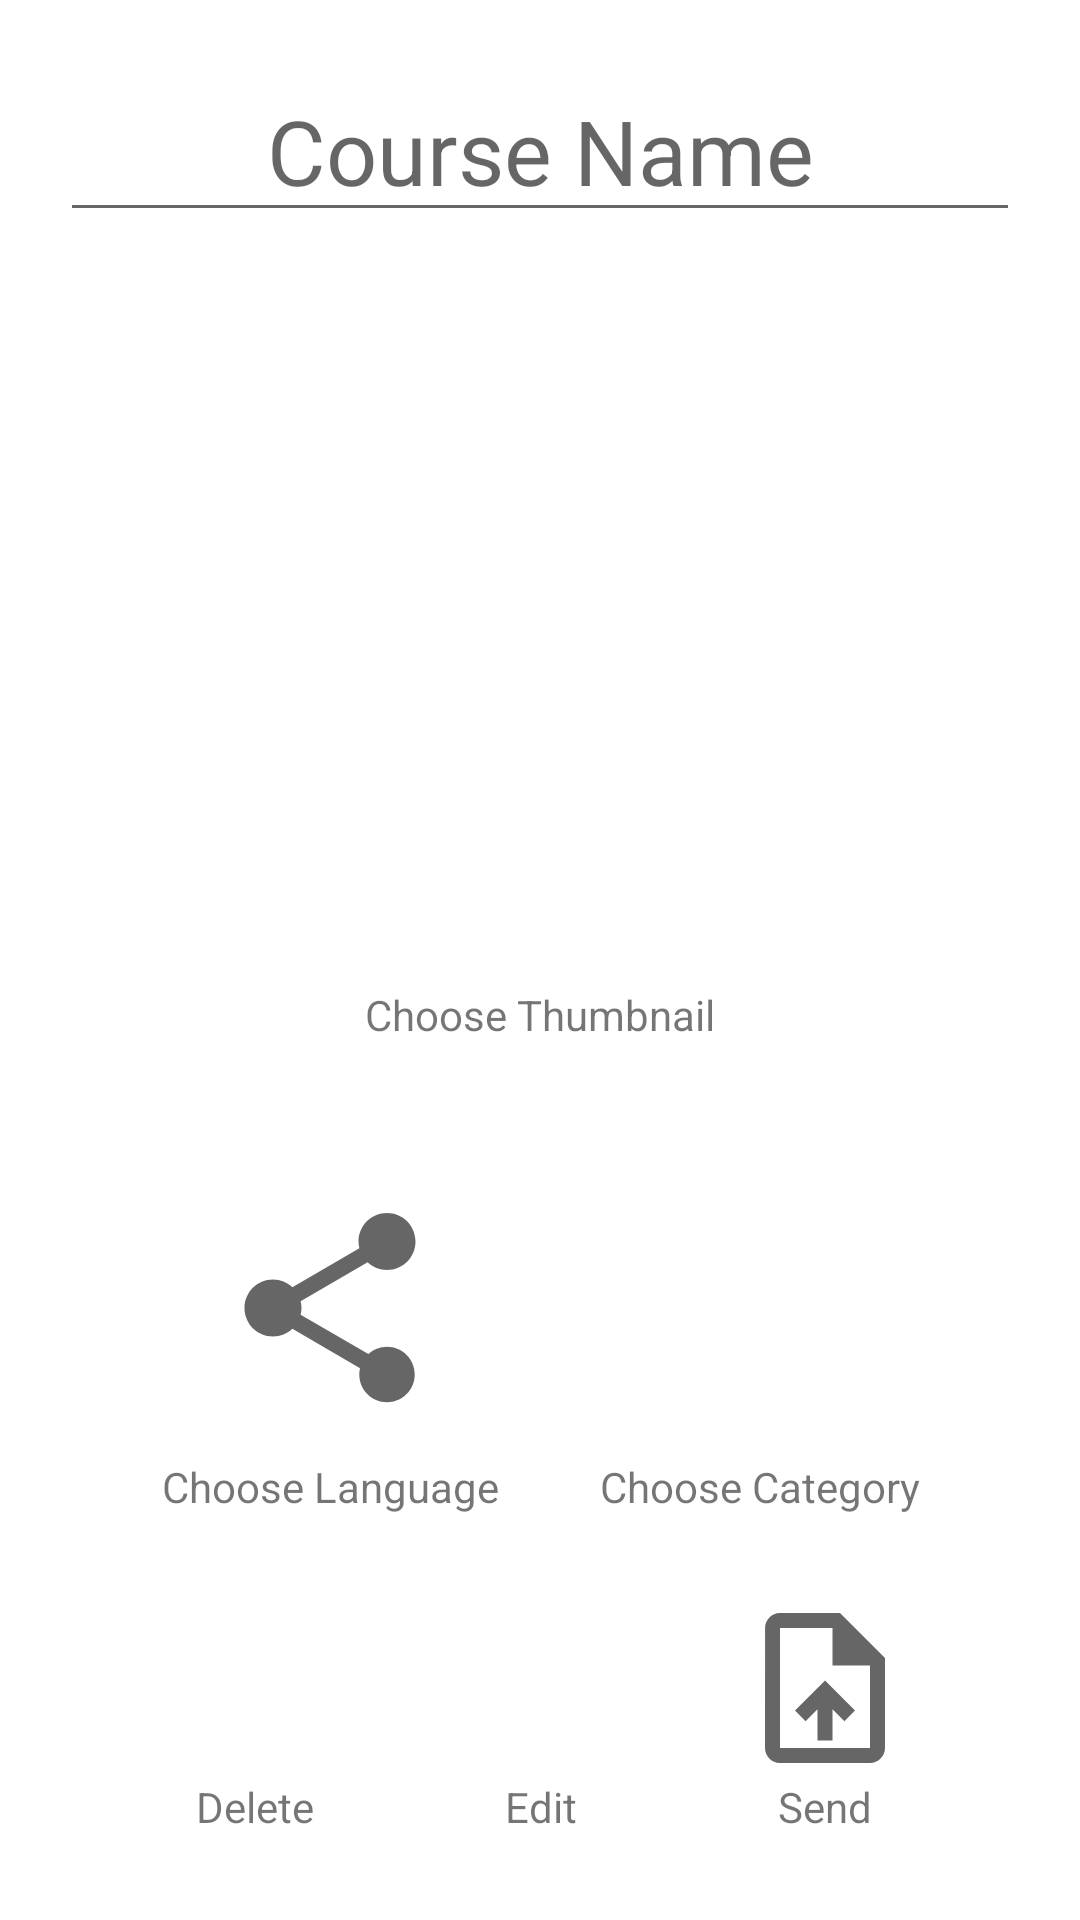

Locate icon controls on the screen. Image size 1080w x 1920h, boxes as (x1, y1, x2, y2).
share: (244, 1213, 416, 1403)
upload file: (765, 1613, 885, 1763)
